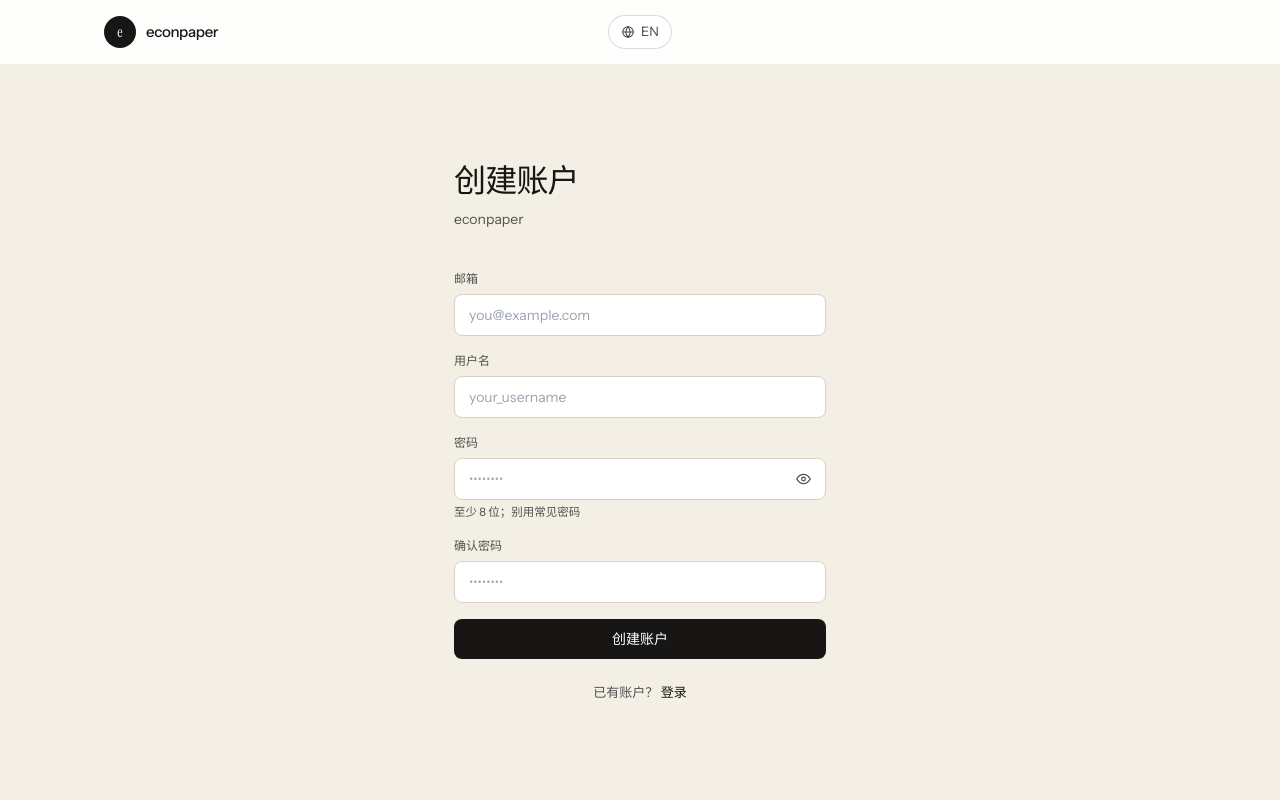
Test: RegisterPage › validates password minimum length
Step 1. Type "test@example.com" into the field labelled "邮箱" → (640, 315), box [454,294,826,336]
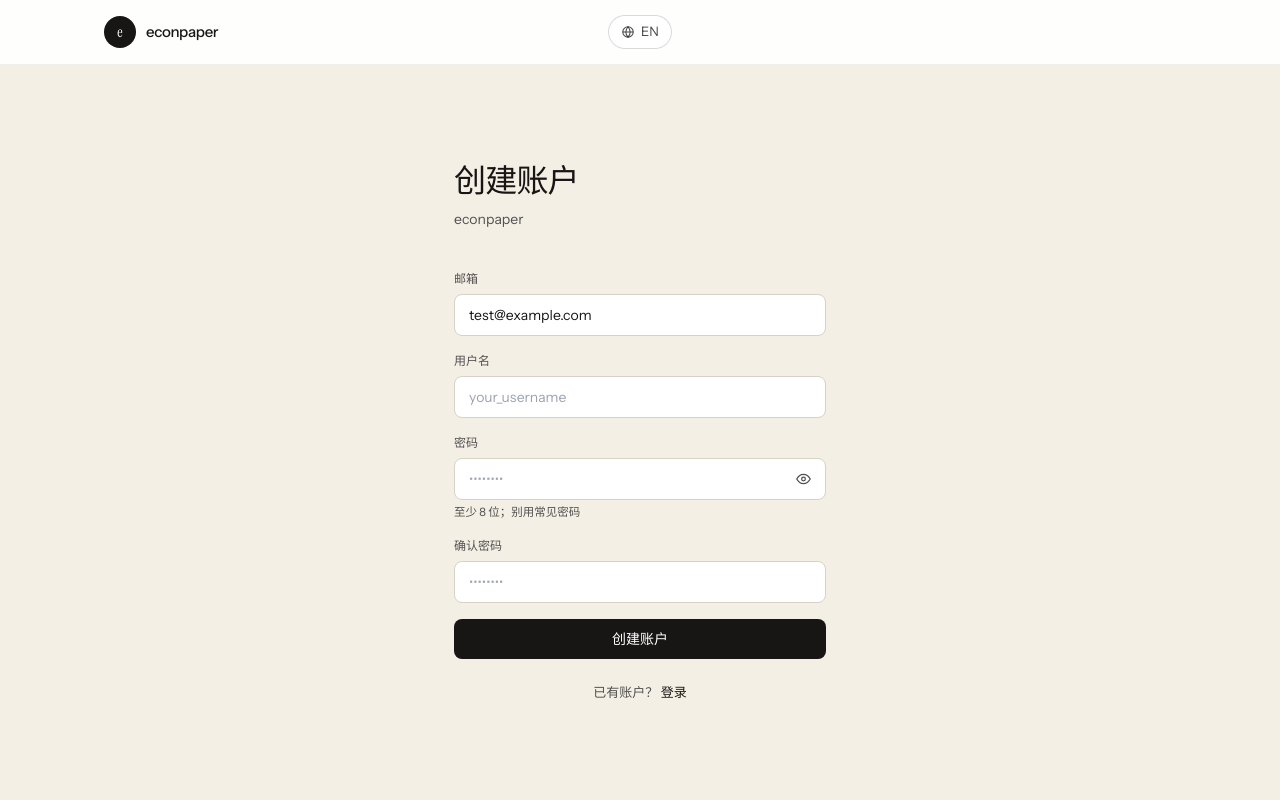
Step 2. Type "testuser" into the field labelled "用户名" → (640, 397), box [454,376,826,418]
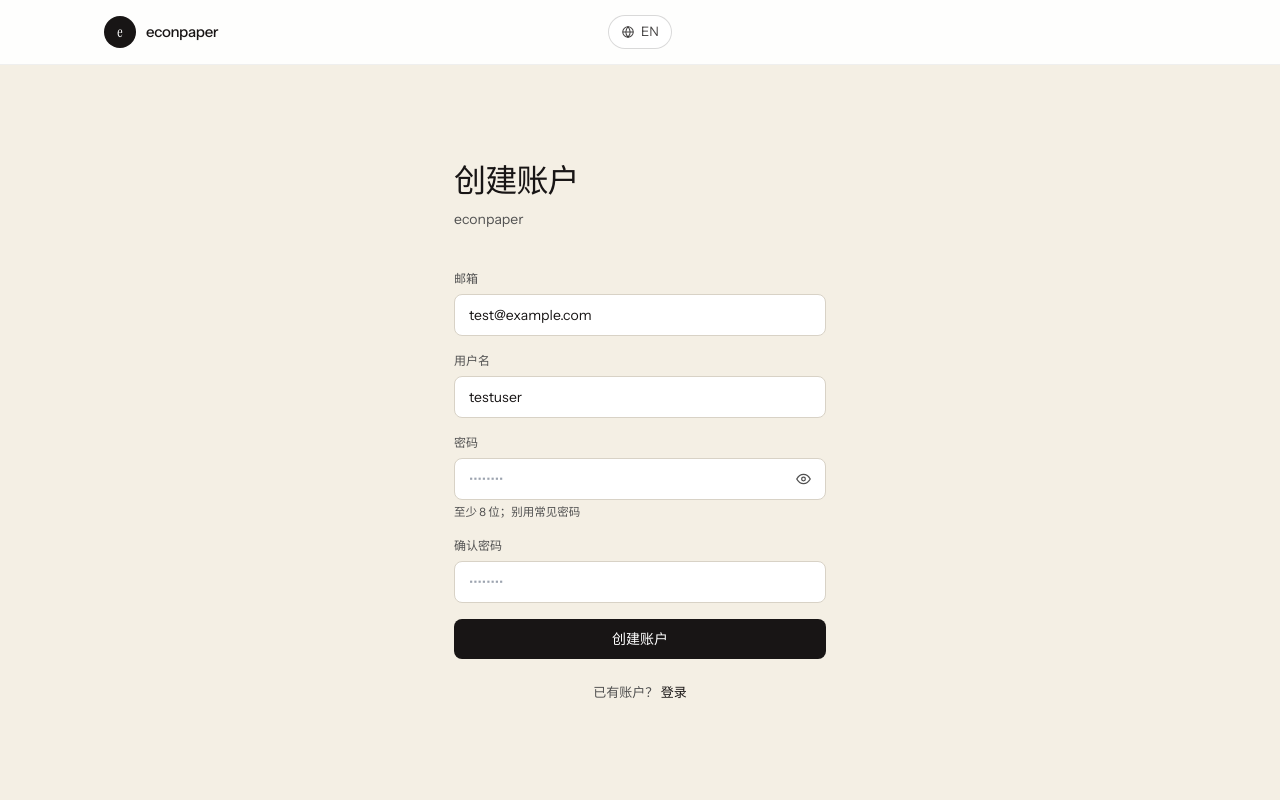
Step 3. Type "12345" into the password field labelled "密码" → (640, 479), box [454,458,826,500]
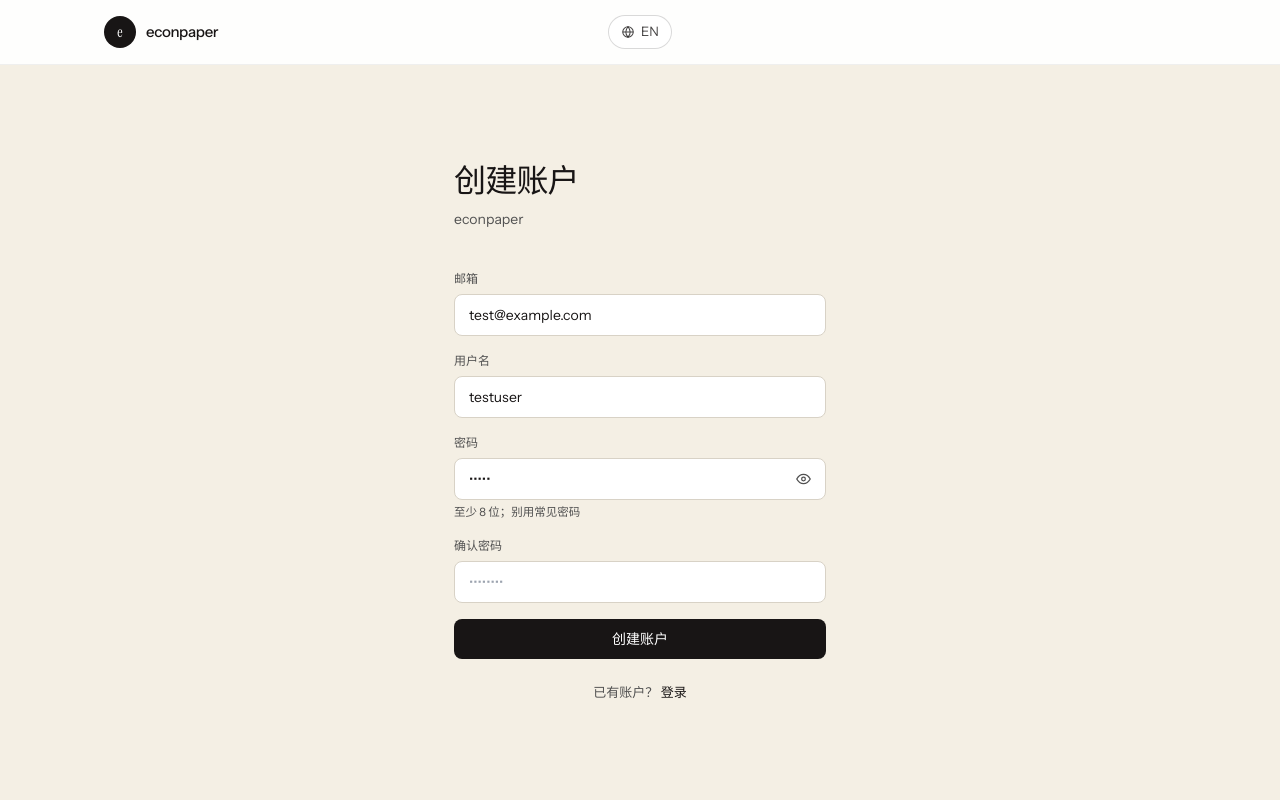
Step 4. Type "12345" into the password field labelled "确认密码" → (640, 582), box [454,561,826,603]
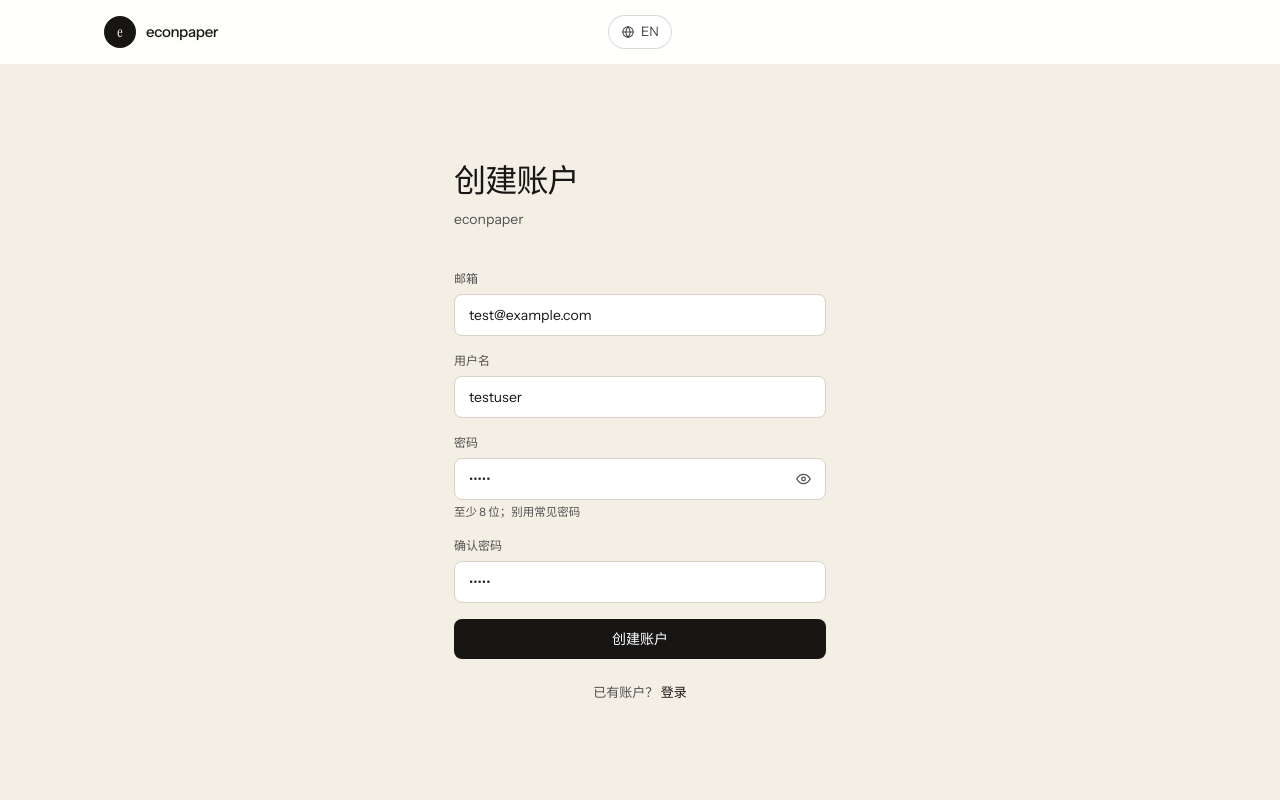
Step 5. Click the button "创建账户" → (640, 639), box [454,619,826,659]
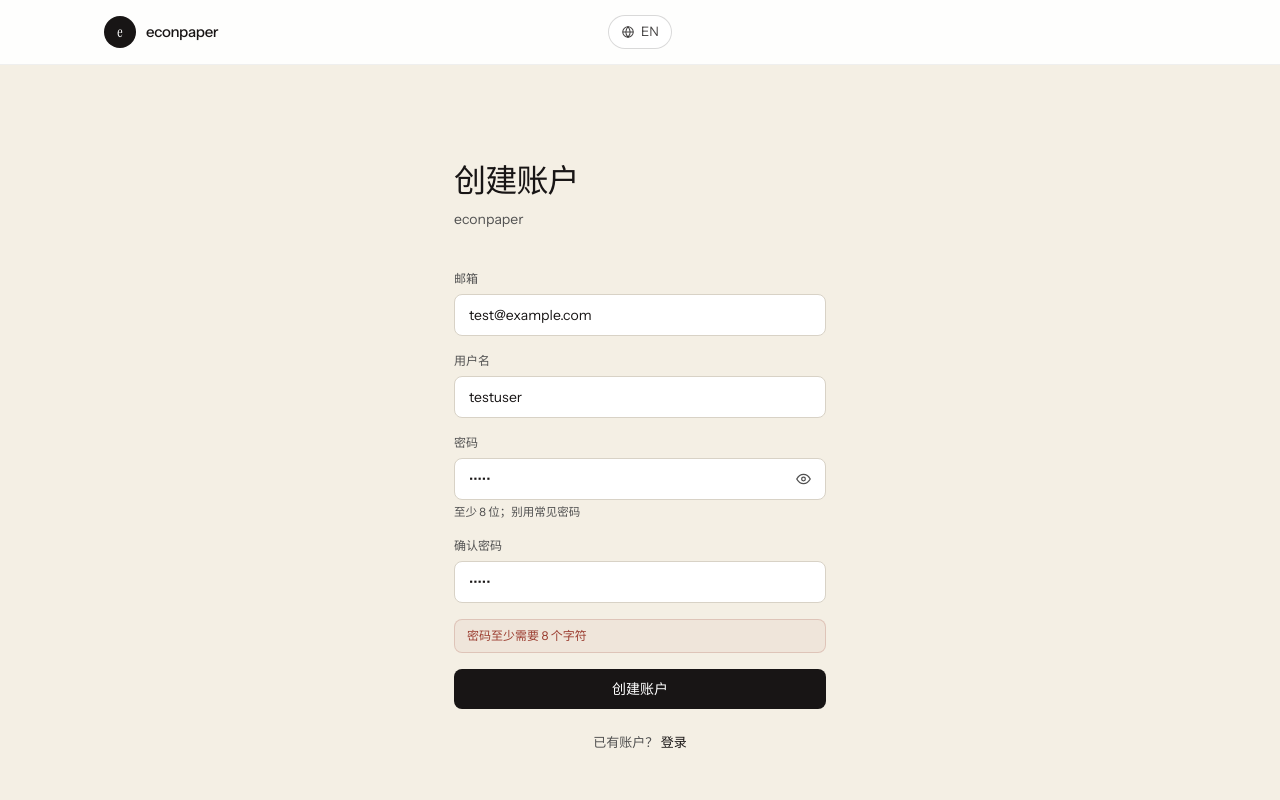
Now the text "密码至少需要 8 个字符" is shown, box [454,619,826,653]
